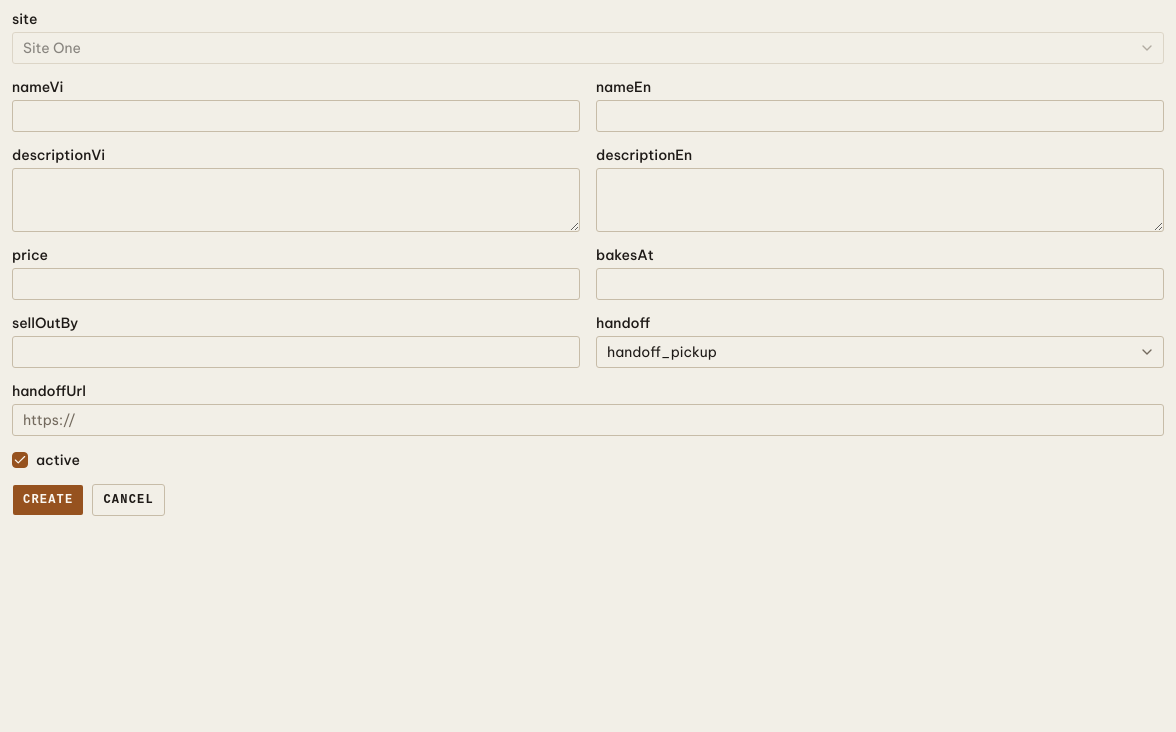
Test case: BakeryItemForm › rejects a non-https handoff link
The width and height of the screenshot is (1176, 732).
Type "http://example.com" into the field labelled "handoffUrl" at [588, 420], box 12,404 -> 1164,436
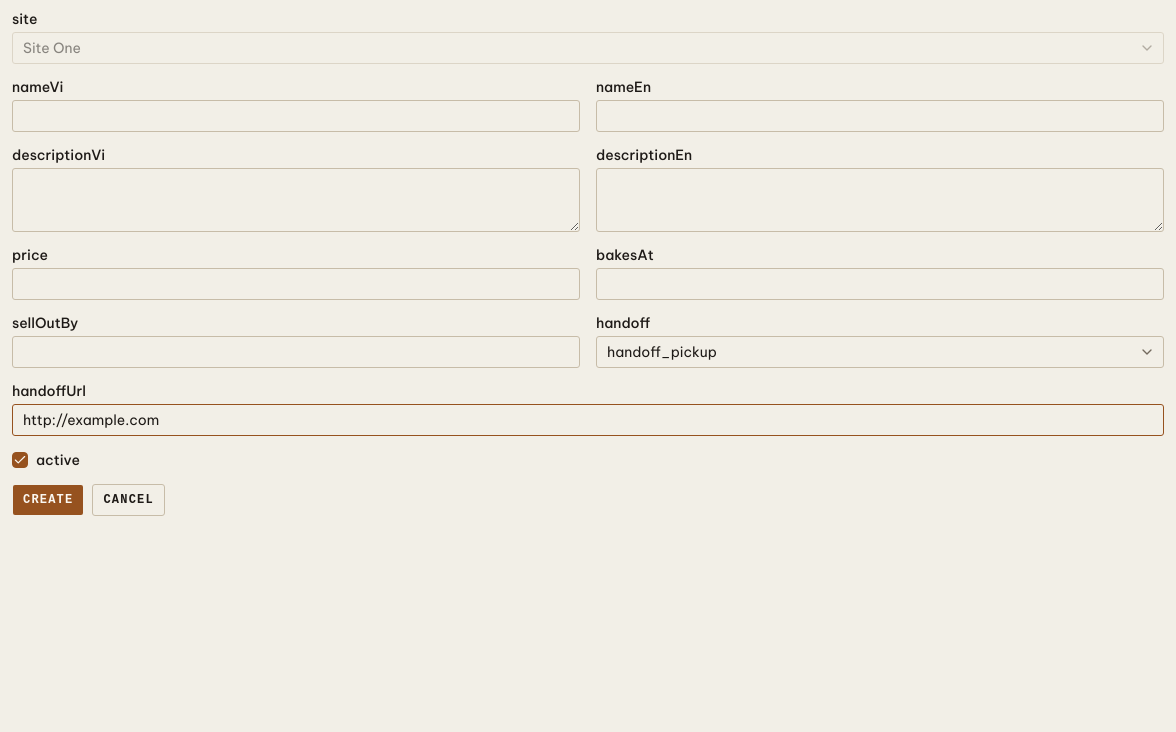
Click the button "create" at [48, 500], box 12,484 -> 84,516
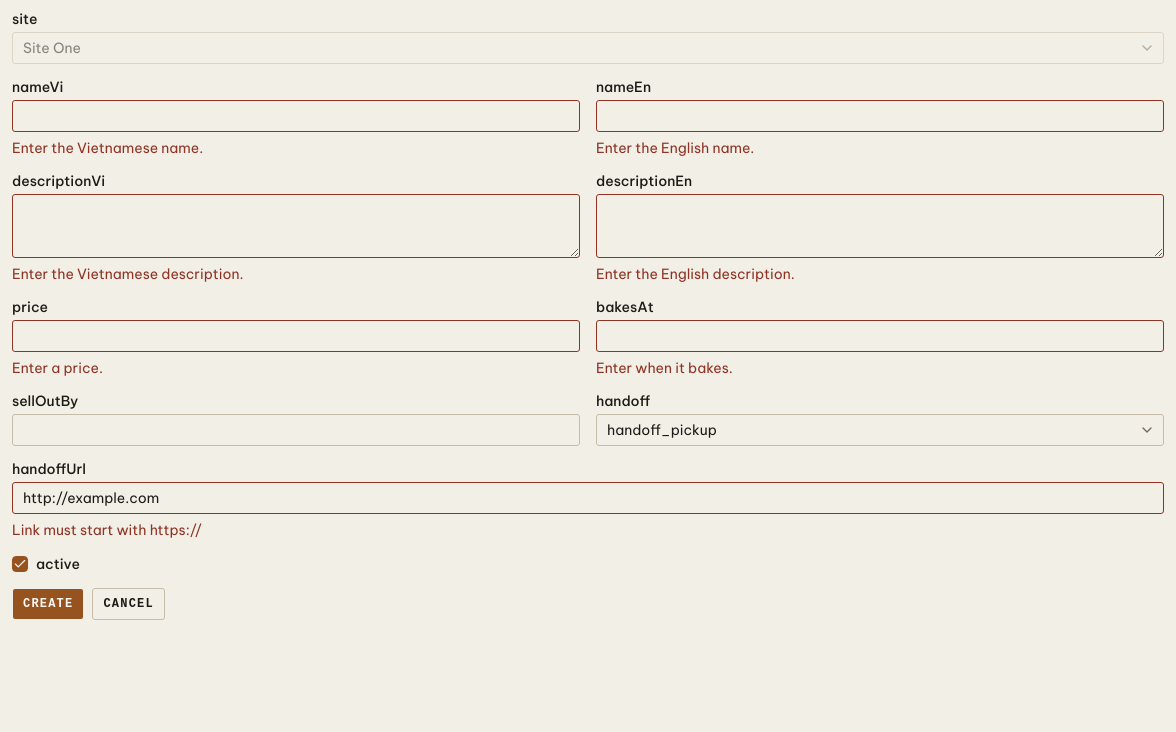
Check: the text "Link must start with https://" is shown, box 12,521 -> 202,539
